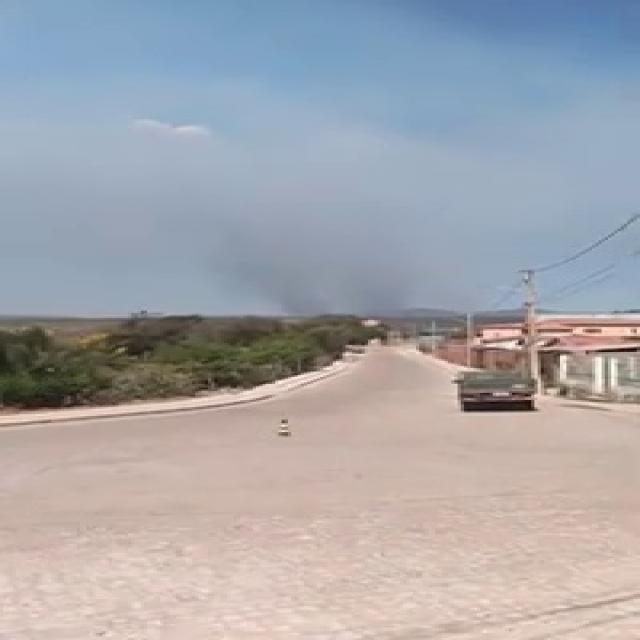Smoke: (208, 214, 474, 328)
